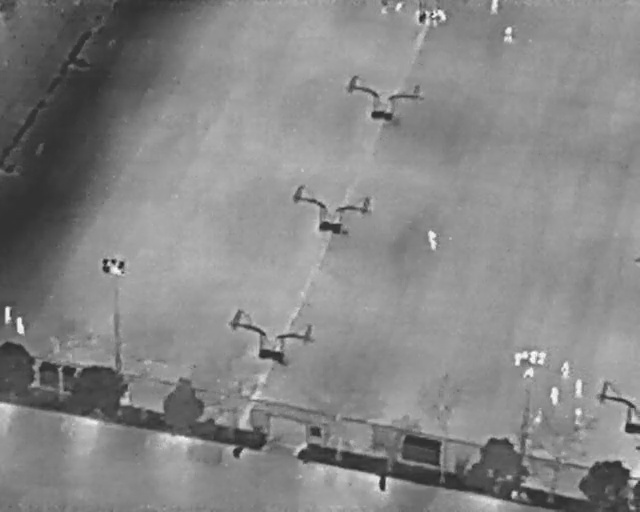Person: (573, 407, 585, 428), (432, 8, 446, 25), (502, 24, 514, 43), (526, 348, 539, 365), (550, 386, 560, 407), (1, 306, 12, 325), (15, 316, 26, 335), (560, 360, 571, 379), (575, 377, 584, 399), (419, 10, 431, 25), (536, 349, 546, 366), (521, 367, 535, 379), (489, 0, 500, 14), (512, 351, 521, 367), (428, 237, 438, 251), (393, 1, 404, 13), (427, 230, 436, 242), (521, 348, 528, 360)
